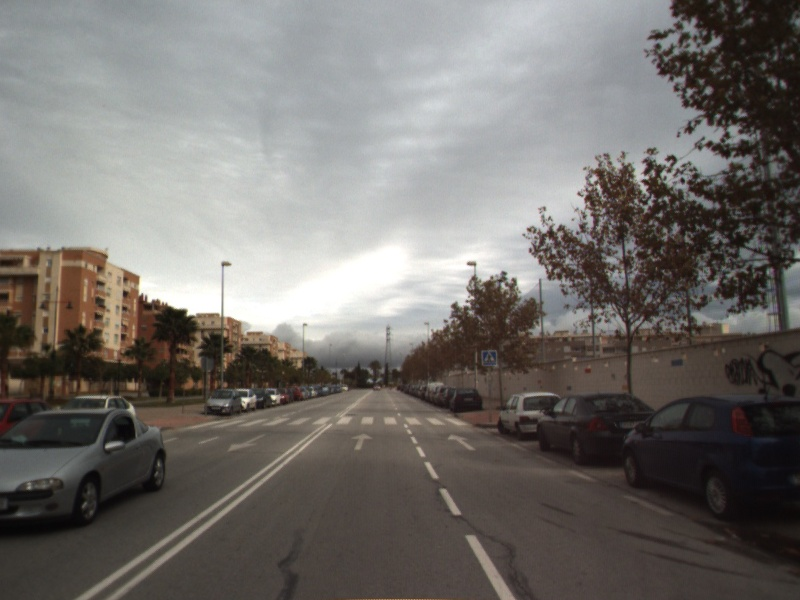STRAIGHT: (446, 431, 478, 452), (349, 431, 375, 452)
